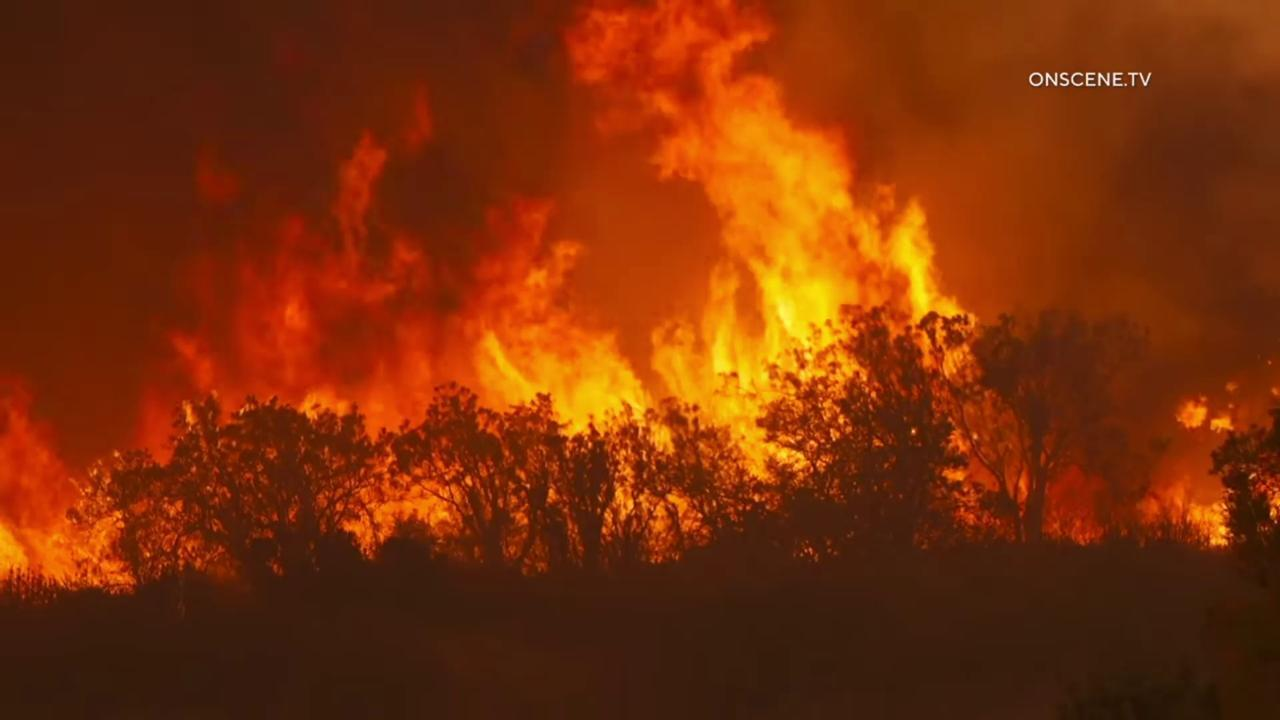fire: (0, 0, 1036, 605), (1140, 474, 1280, 553), (1171, 389, 1210, 432), (1208, 414, 1240, 437)
smoke: (0, 0, 1280, 720)
